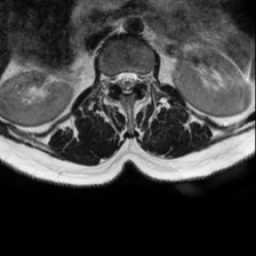CCS_normal: (122, 62, 130, 100)
LFS_normal: (138, 62, 146, 92)
LLS_normal: (130, 62, 138, 94)
RFS_normal: (106, 67, 114, 93)
RLS_normal: (114, 65, 122, 93)
